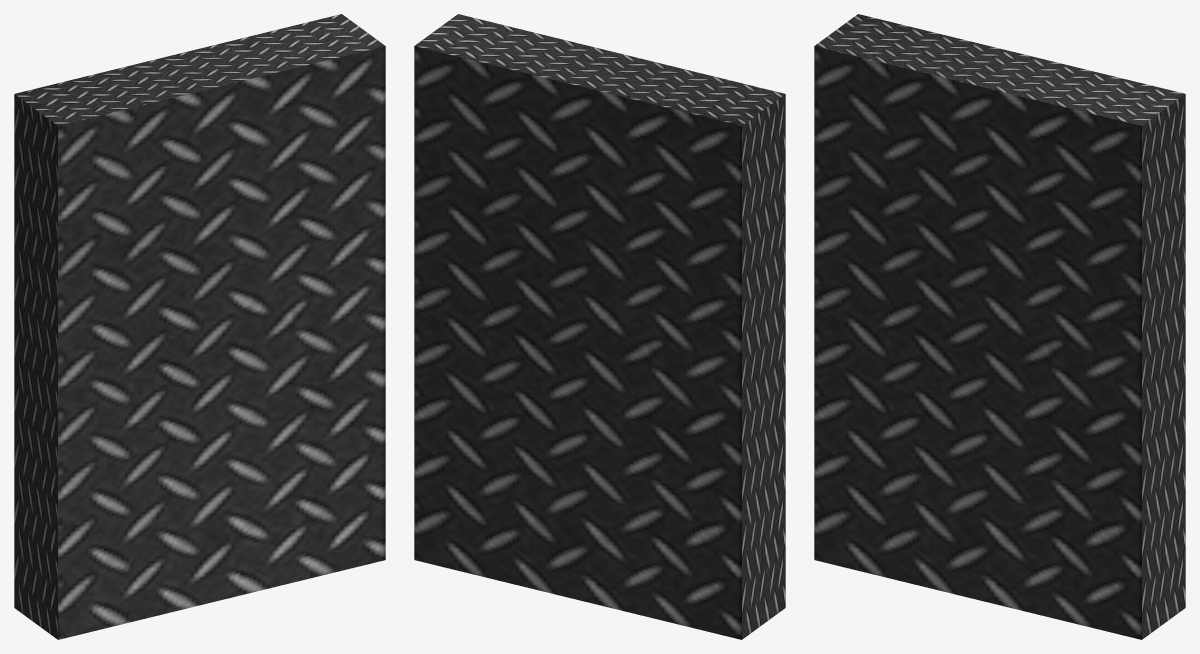
File: tai.FBX
The picture shows the model from 3 angles, left to right: view 1: azimuth 30°, elevation 25°; view 2: azimuth 150°, elevation 25°; view 3: azimuth 330°, elevation 25°; orthographic projection.
Parts seen in each view (by area): view 1: tai; view 2: tai; view 3: tai.
Part boxes in pixels (x1,y1,x2,y2): tai: (14,14,385,639); tai: (414,14,785,639); tai: (814,14,1185,639).
Bounding box in the file's own units: 49.21 × 73.76 × 11.4.
